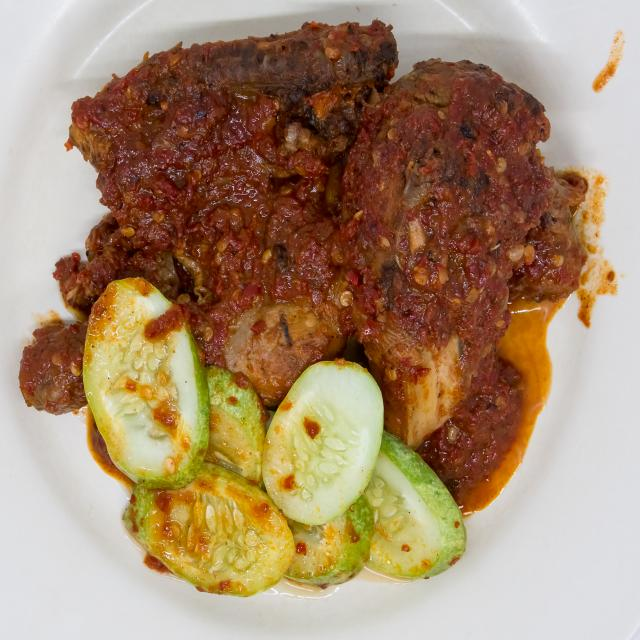Ayam-Bumbu-Rujak: (14, 16, 596, 527)
